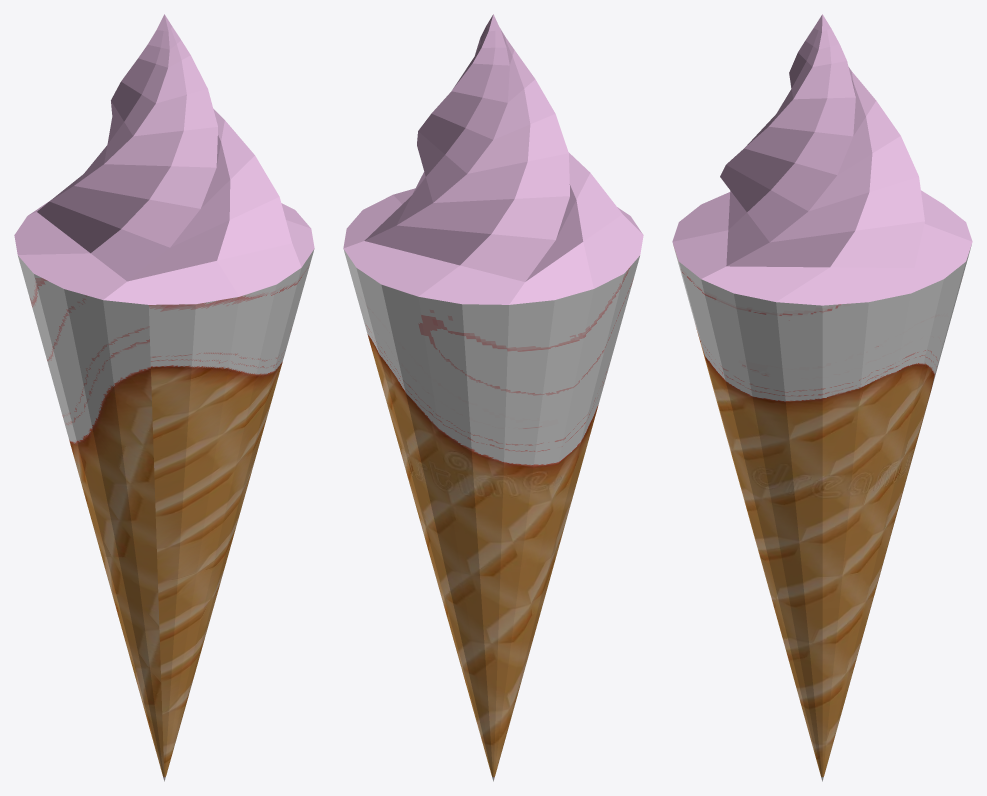
The model's file is IceCream.fbx.
The picture shows the model from 3 angles, left to right: view 1: azimuth 30°, elevation 25°; view 2: azimuth 150°, elevation 25°; view 3: azimuth 270°, elevation 25°; orthographic projection.
Visible parts, largest first — view 1: Конус; view 2: Конус; view 3: Конус.
Boxes of the visible parts, x1=… form: Конус: x1=14, y1=14, x2=314, y2=781; Конус: x1=343, y1=14, x2=643, y2=781; Конус: x1=672, y1=14, x2=972, y2=781.
Size of the model in its own units: 200 by 201 by 564.
2 materials, 1 textured.
